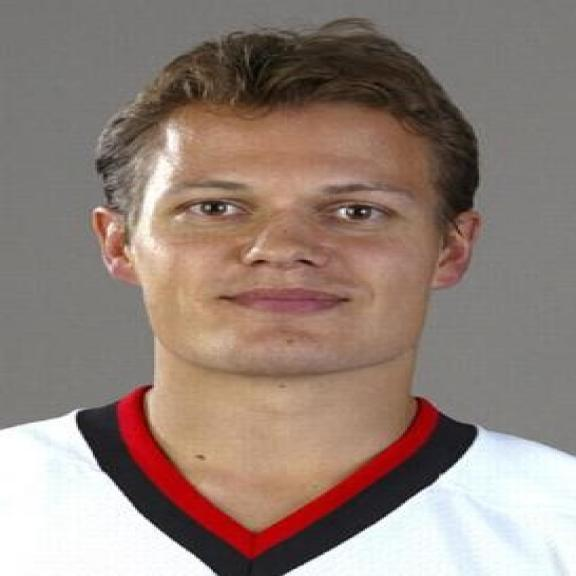face: (89, 99, 486, 372)
